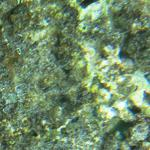dead: (2, 1, 148, 146)
